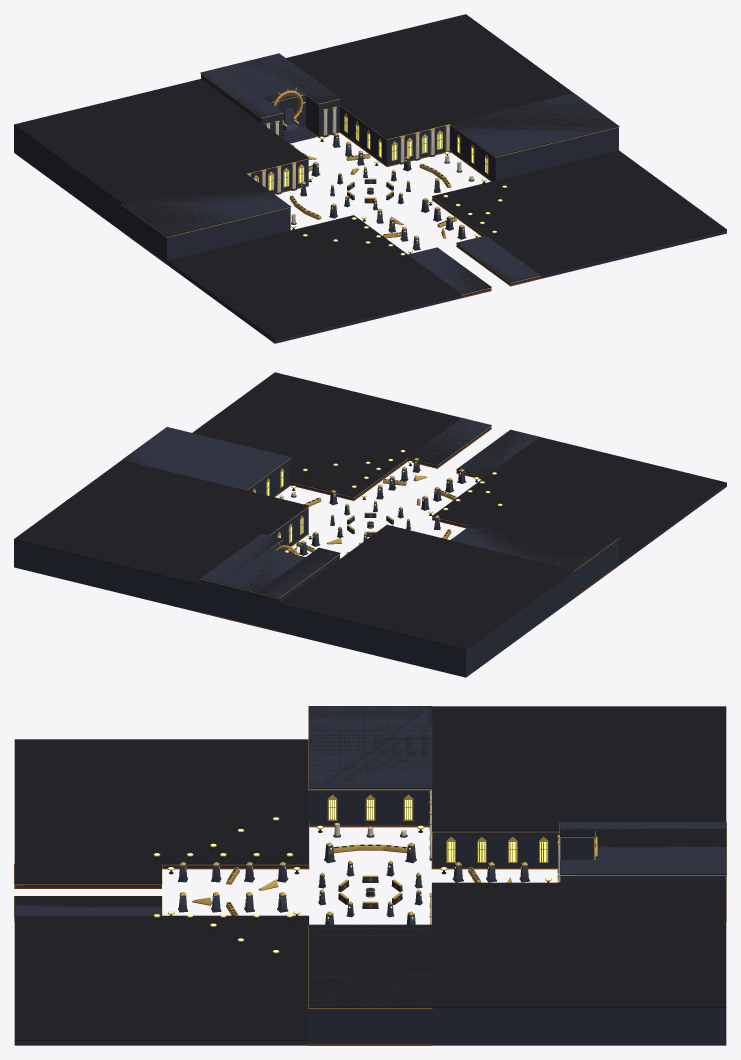
File: sunhall.glb
3 views of the same model, one above another, from view 1: azimuth 30°, elevation 25°; view 2: azimuth 150°, elevation 25°; view 3: azimuth 270°, elevation 25° (orthographic). The views are drawn at different scales.
Parts seen in each view (by area): view 1: back, fall3_00, fall3_10, fall2_10, fall2_00, fall3_20, fall3_01, fall3_02; view 2: back, fall3_00, fall3_01; view 3: back, fall2_00, fall2_01, fall2_02, fall0_00, fall0_01, fall2_10.
Part boxes in pixels (x1=…): back: x1=14, y1=14, x2=726, y2=343; fall3_00: x1=374, y1=124, x2=408, y2=166; fall3_10: x1=396, y1=119, x2=429, y2=161; fall2_10: x1=254, y1=154, x2=289, y2=194; fall2_00: x1=276, y1=149, x2=308, y2=191; fall3_20: x1=417, y1=117, x2=450, y2=156; fall3_01: x1=362, y1=115, x2=395, y2=157; fall3_02: x1=350, y1=111, x2=383, y2=148; back: x1=14, y1=372, x2=726, y2=677; fall3_00: x1=275, y1=500, x2=308, y2=542; fall3_01: x1=263, y1=509, x2=296, y2=551; back: x1=14, y1=706, x2=726, y2=1045; fall2_00: x1=429, y1=816, x2=465, y2=869; fall2_01: x1=465, y1=816, x2=498, y2=869; fall2_02: x1=498, y1=816, x2=531, y2=869; fall0_00: x1=275, y1=849, x2=309, y2=869; fall0_01: x1=242, y1=849, x2=275, y2=869; fall2_10: x1=429, y1=802, x2=465, y2=850.
Bounding box in the file's own units: 150 × 14.59 × 150.
